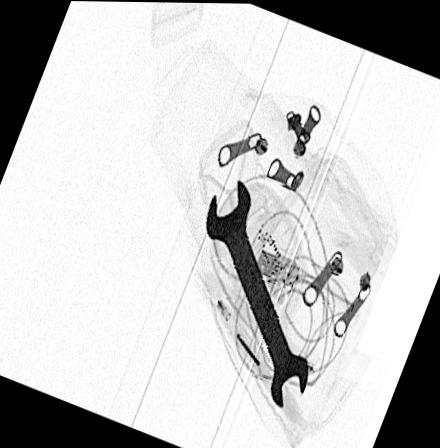Wrench: (205, 180, 306, 405)
